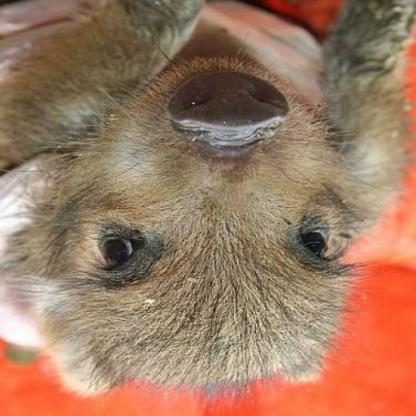boar: (0, 1, 415, 404)
